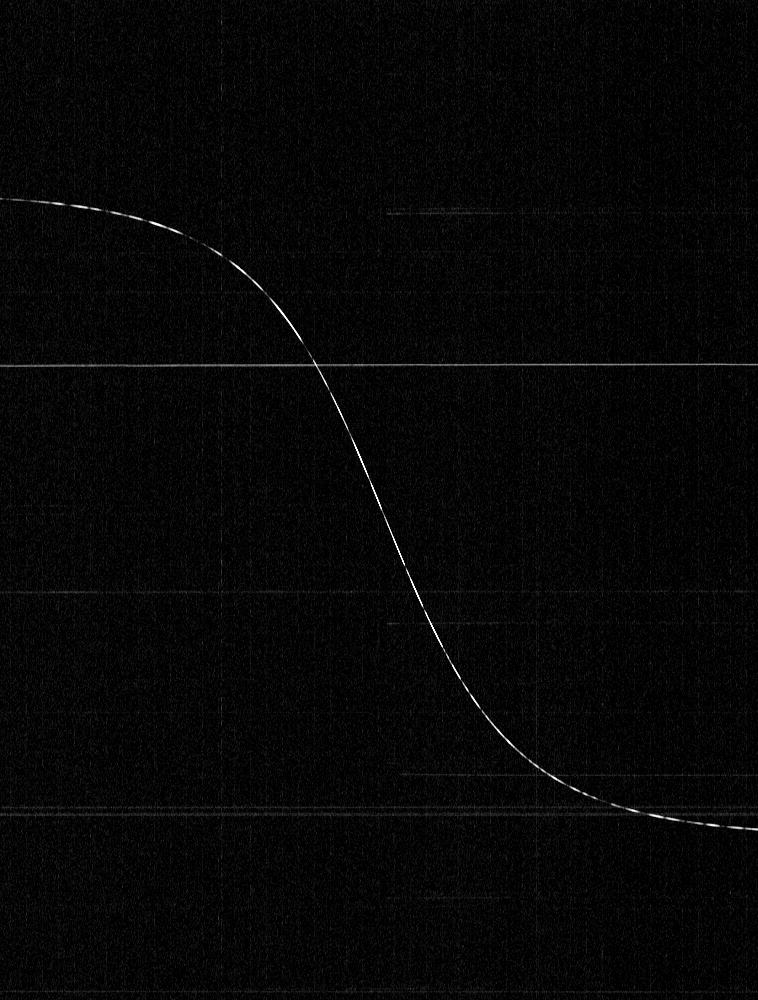signal: (0, 0, 757, 999)
